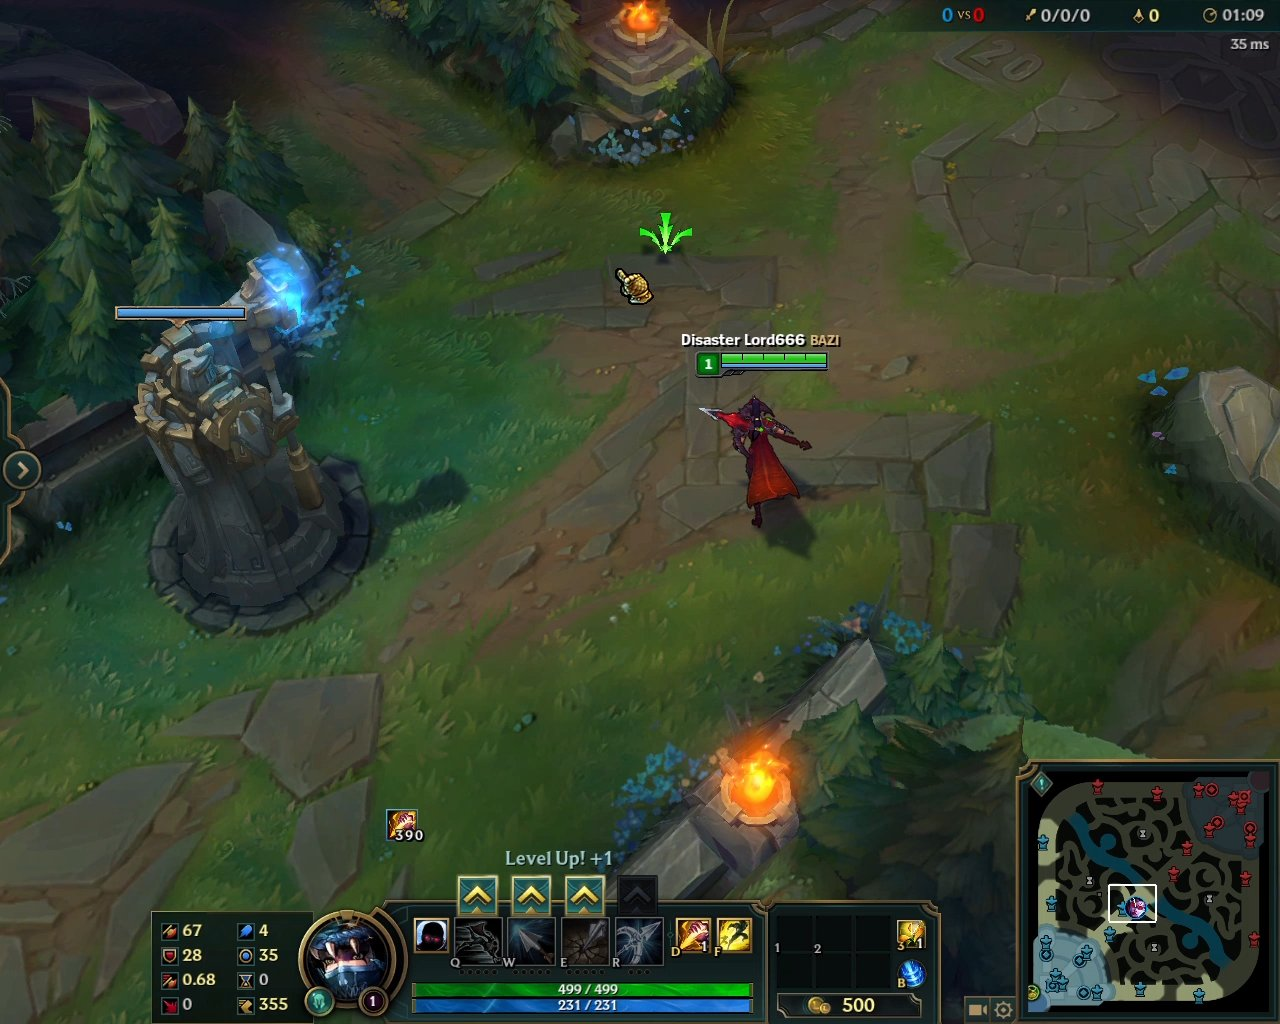Vayne: (695, 390, 815, 539)
